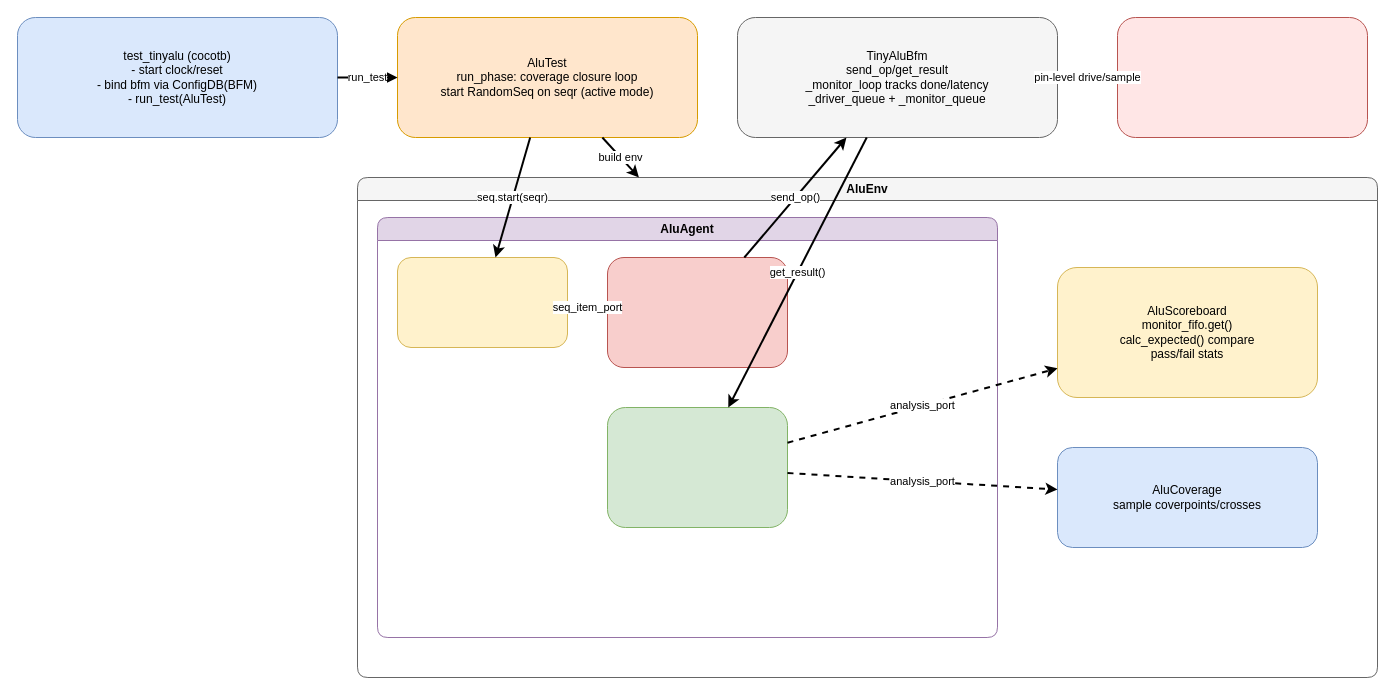
This 1395x695 diagram has some shape labels left out. Each missing label, with the centre of its shape:
"AluDriver get_next_item() bfm.send_op() item_done()" belongs at (697,312).
"AluMonitor bfm.get_result() timing checks ap.write(item)" belongs at (697,467).
"DUT tinyalu.sv op/A/B/start -> result/done" belongs at (1242,77).
"uvm_sequencer (active mode only)" belongs at (482,302).
